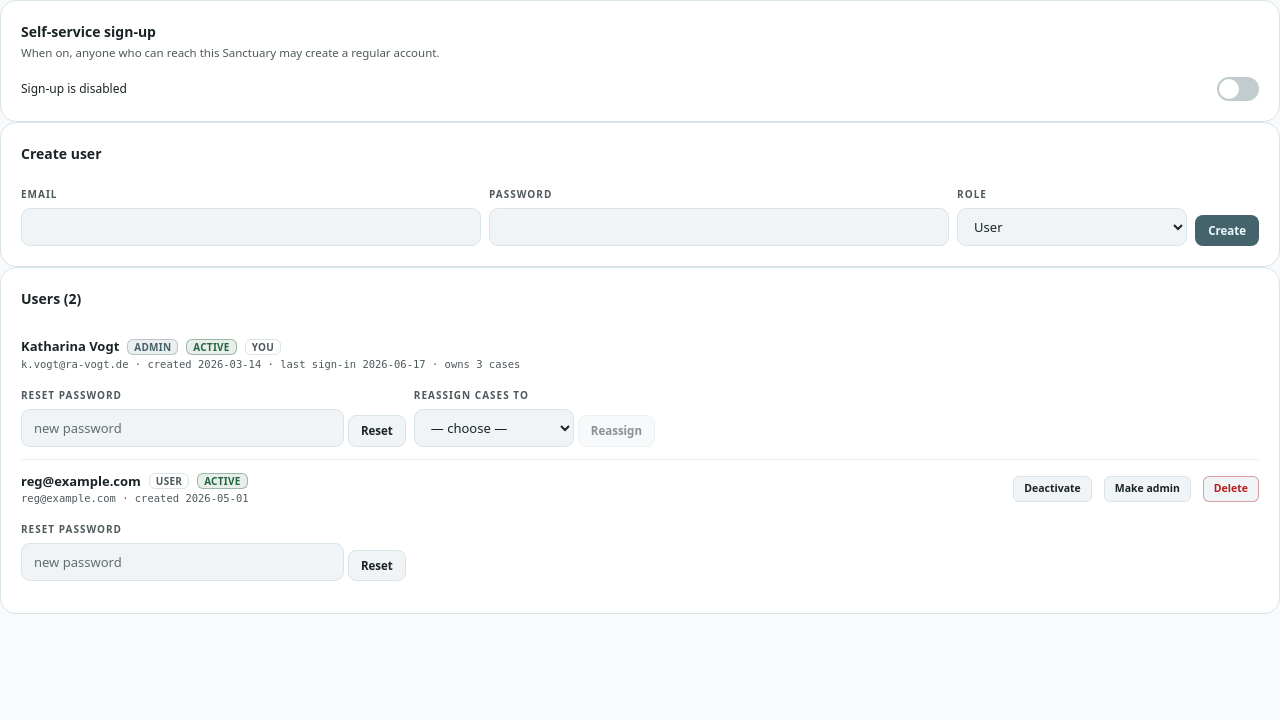
it: admin: creates a user and never offers self-destructive actions on yourself
The image size is (1280, 720).
Expected: the heading "Users (2)" is shown, [21,289,81,308]
Expected: the text "you" is shown, [245,339,281,355]
Type "new@example.com" into the field labelled "Email" at coordinates (251, 227), box [21,208,481,246]
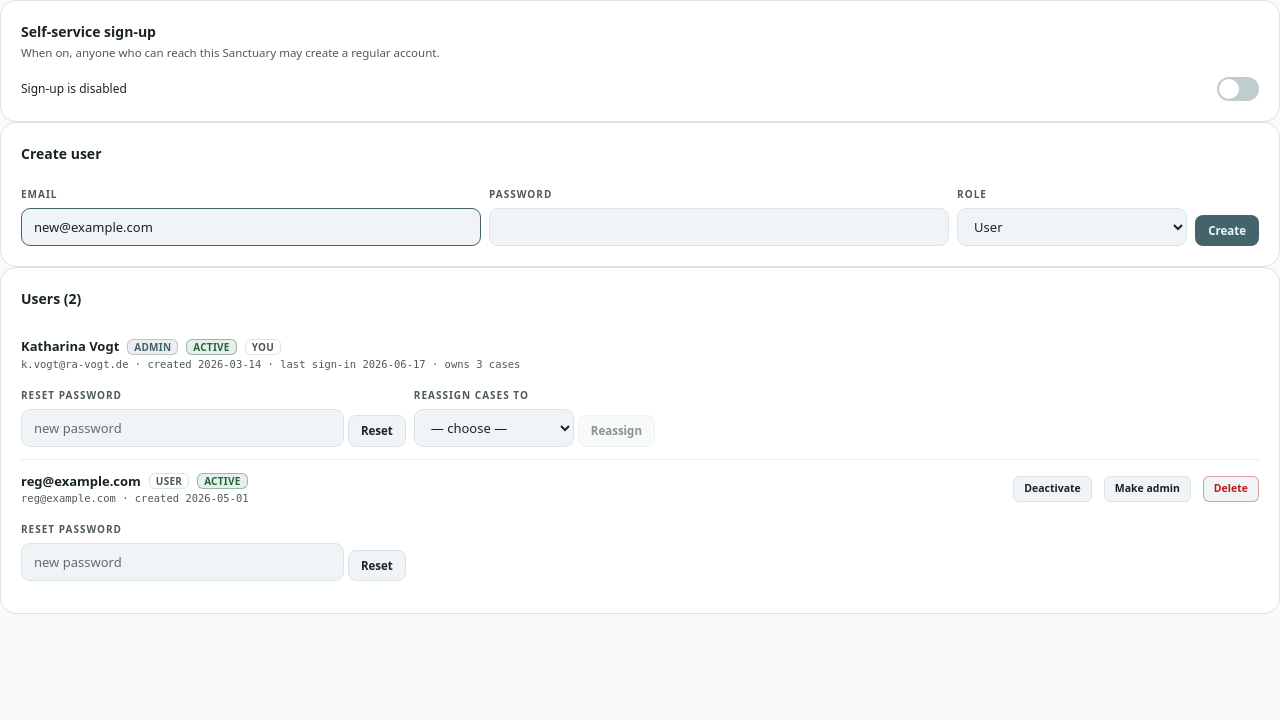
Type "password123" into the password field labelled "Password" at coordinates (719, 227), box [489,208,949,246]
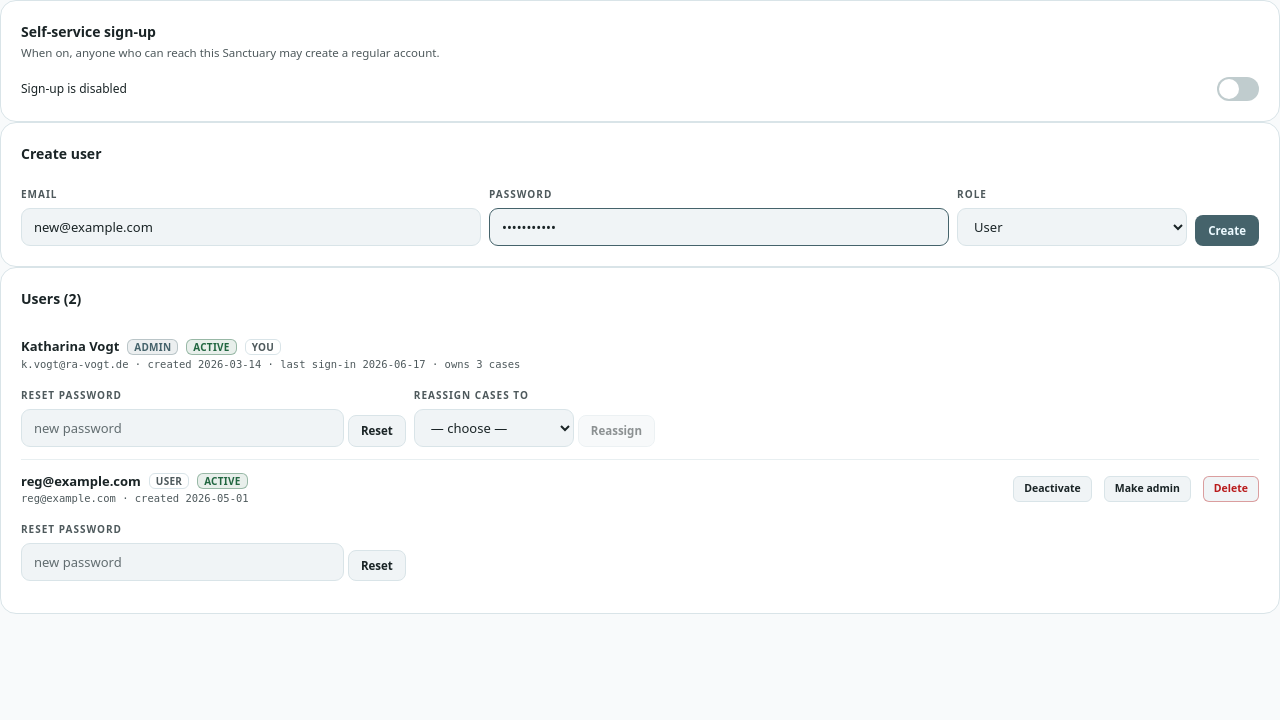
Click the button "Create" at coordinates (1227, 231), box [1195,215,1259,246]
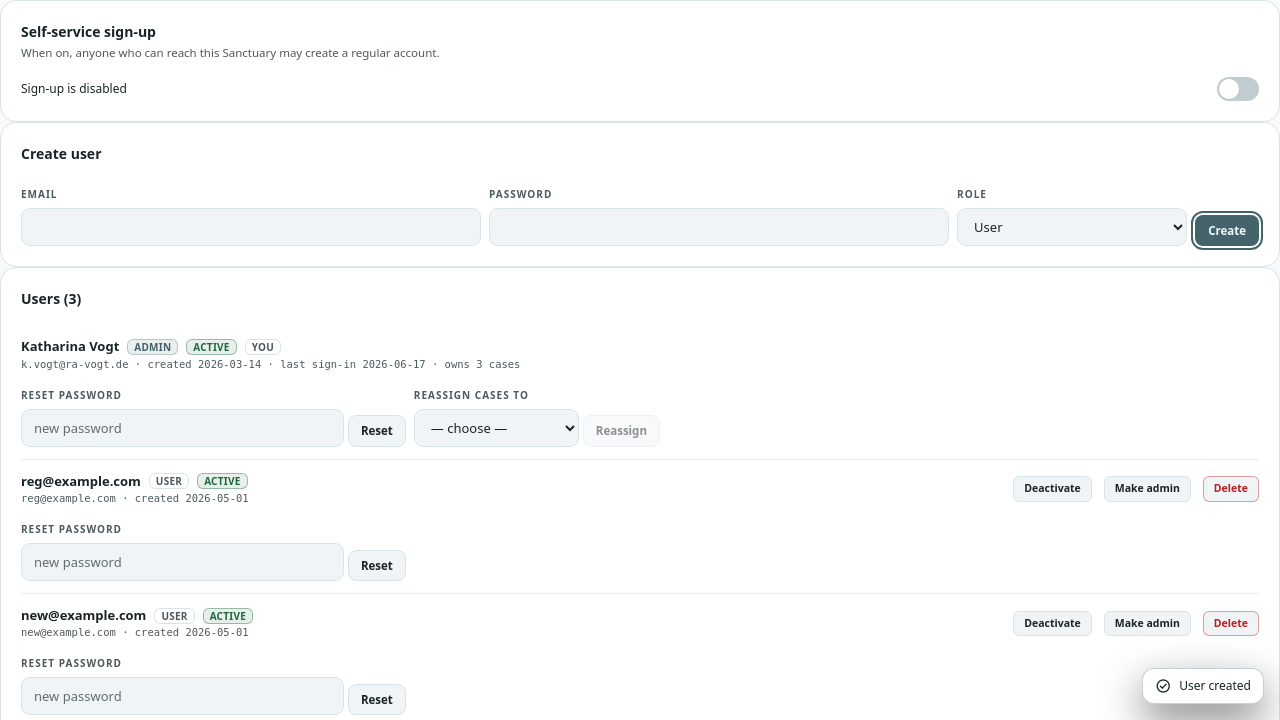
Expected: the heading "Users (3)" is shown, [21,289,81,308]
